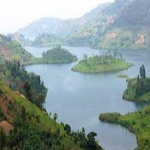Lake: (24, 59, 132, 117)
